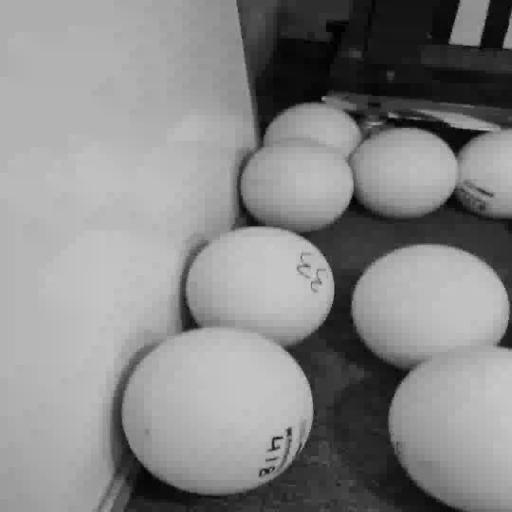fuel: (122, 103, 512, 494), (350, 244, 512, 512)
